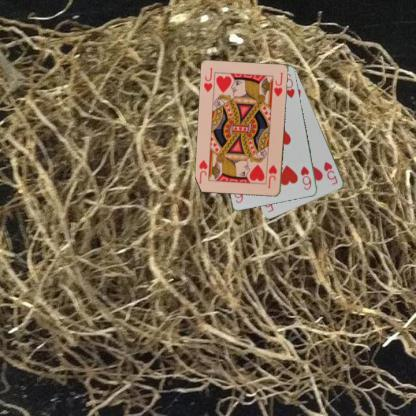5h: (321, 159, 339, 186)
6h: (298, 164, 313, 191)
Jh: (265, 162, 279, 190), (201, 65, 214, 94)
